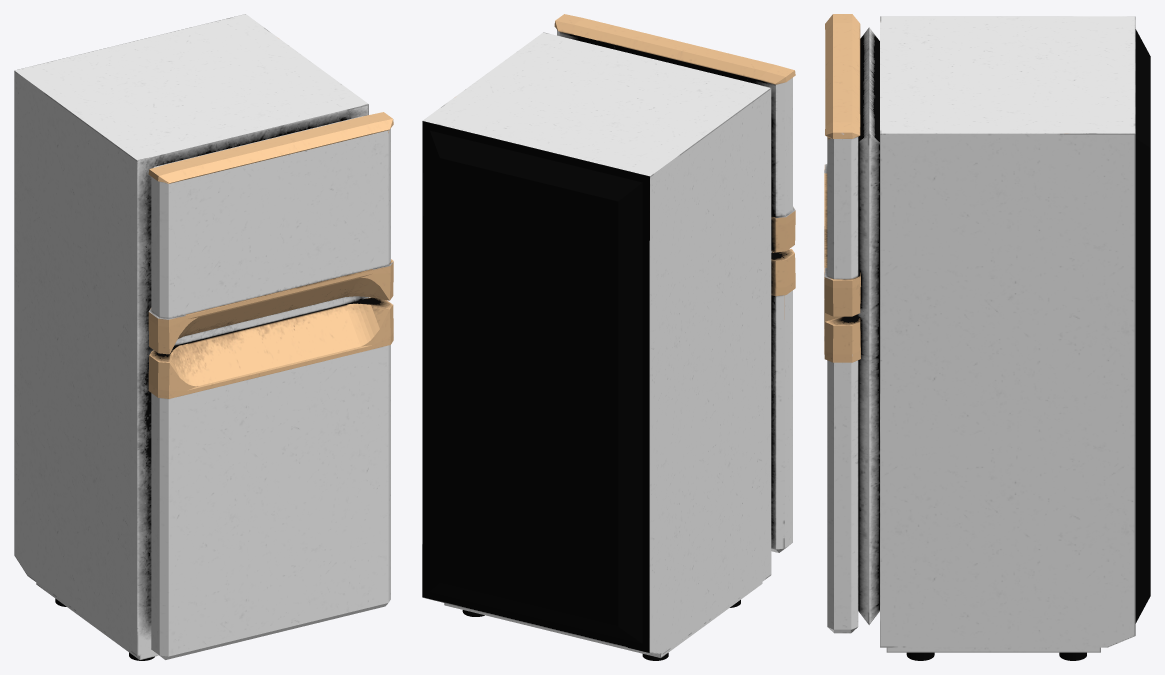
Rendered from fridge.glb.
3 renders of one model, left to right at view 1: azimuth 30°, elevation 25°; view 2: azimuth 150°, elevation 25°; view 3: azimuth 270°, elevation 25°, orthographic. The views are drawn at different scales.
Parts seen in each view (by area): view 1: fridge; view 2: fridge; view 3: fridge.
Part boxes in pixels (x1,y1,x2,y2): fridge: [14, 14, 393, 660]; fridge: [422, 14, 795, 660]; fridge: [824, 14, 1150, 660].
Bounding box in the file's own units: 1.02 × 2.13 × 1.18.
Materials: 1 (1 with a texture image).
